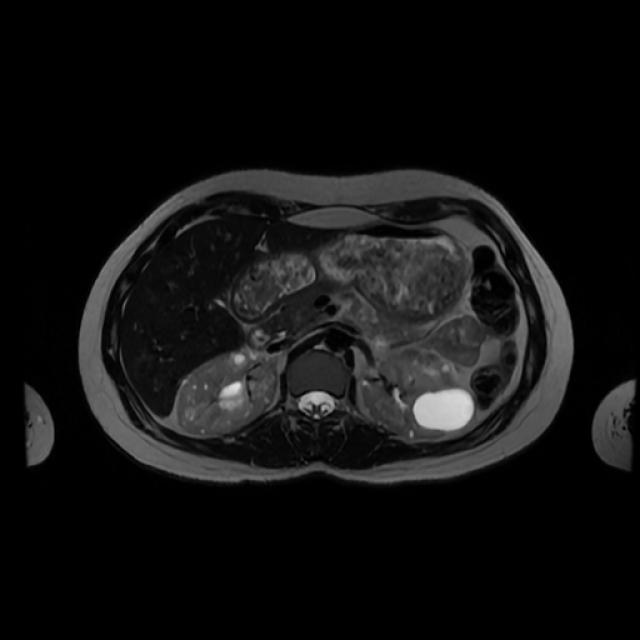sag: (174, 349, 278, 437)
sol: (359, 349, 477, 440)
